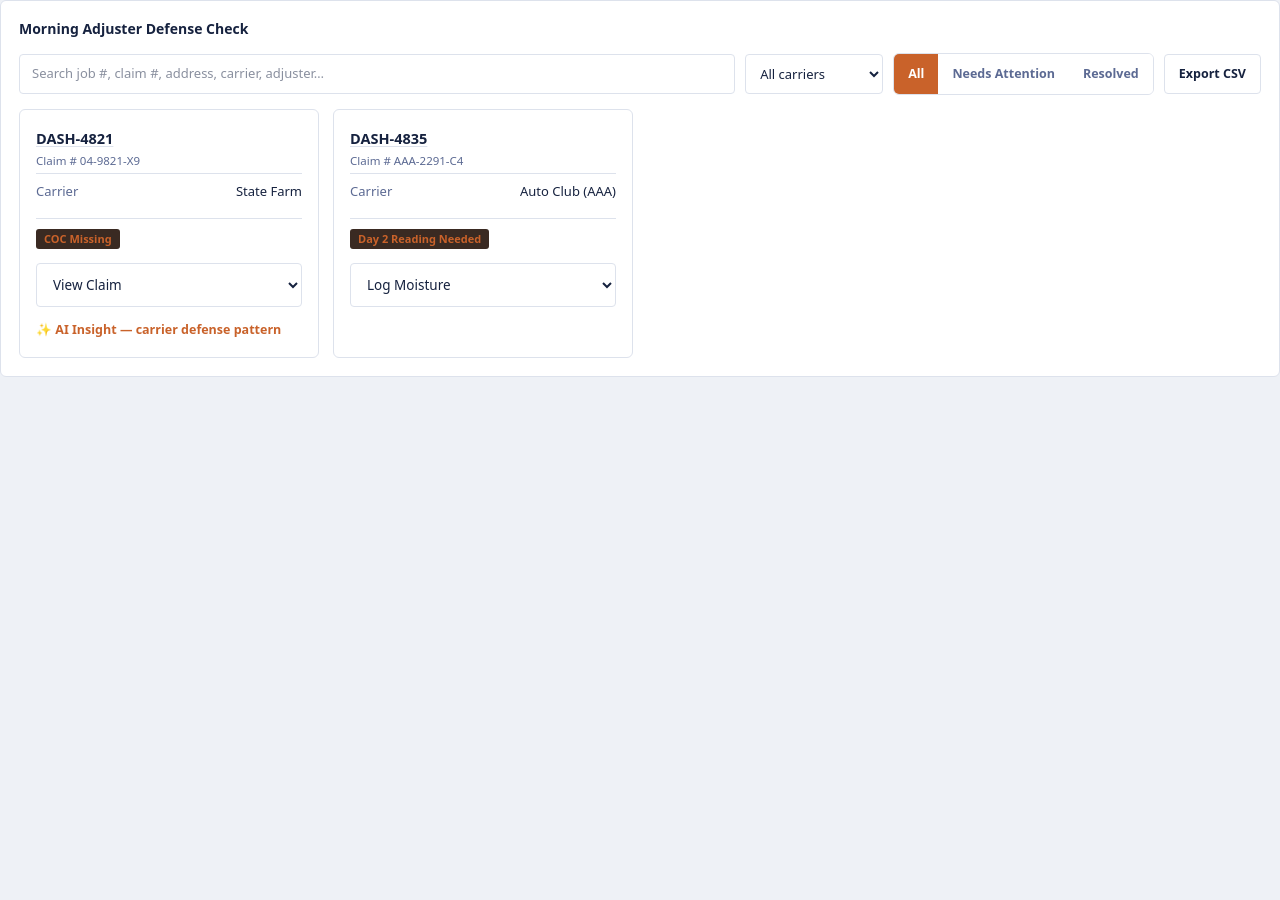
Scenario: AdjusterDefenseView › opens the claim detail modal when a case title is clicked, and closes it
Click the button "DASH-4821". click: (75, 139)
box: left=36, top=128, right=113, bottom=150
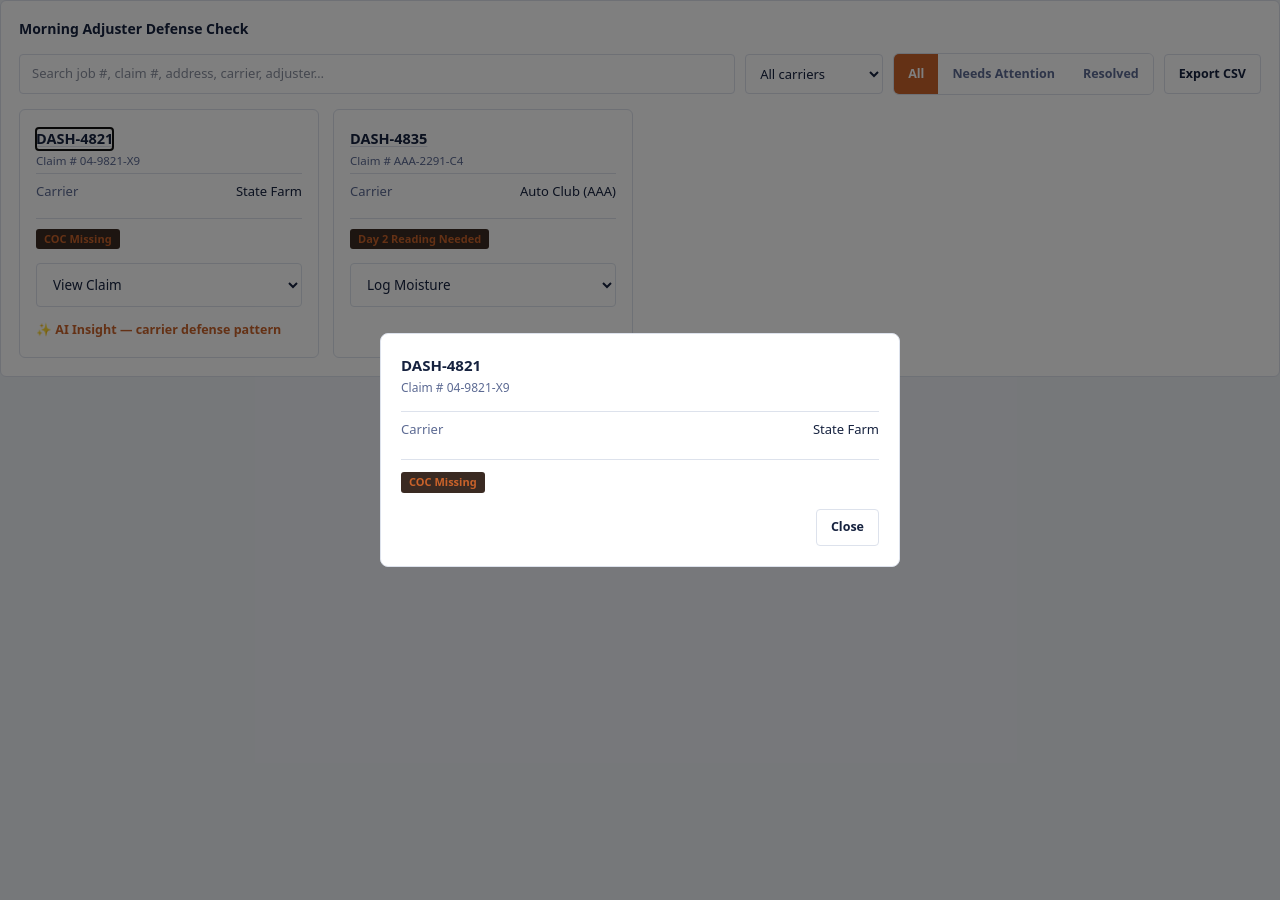
Check: the text "Claim # 04-9821-X9" is shown, box left=401, top=379, right=510, bottom=397
Click the button "Close". click: (847, 527)
box: left=816, top=509, right=879, bottom=546
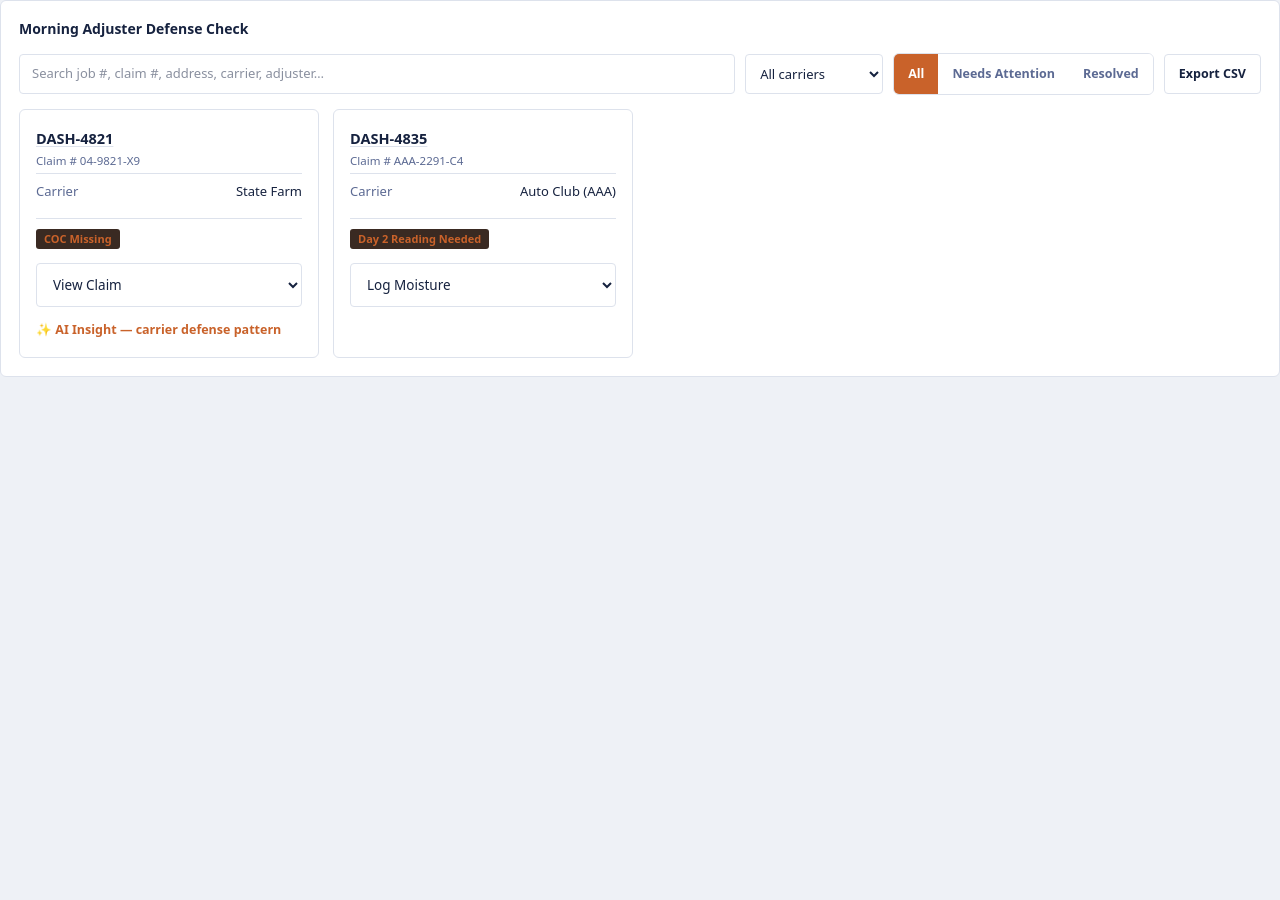
Check: the dialog is gone
